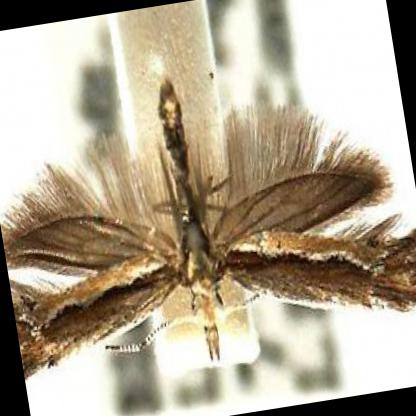plutella: (0, 68, 416, 375)
